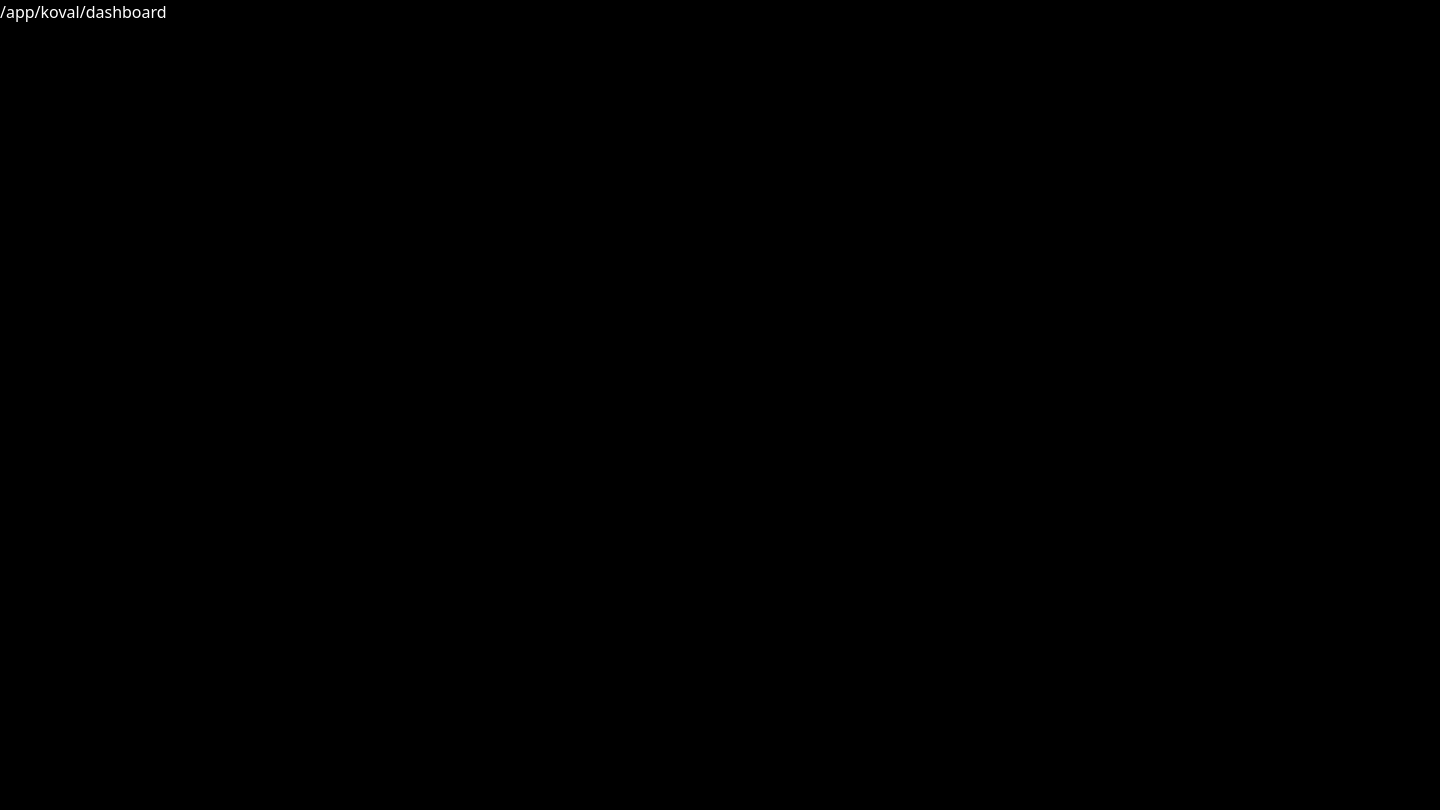
Test: speaks English (UK) inside an en-GB locale
Type keys "{Control>}k{/Control}"
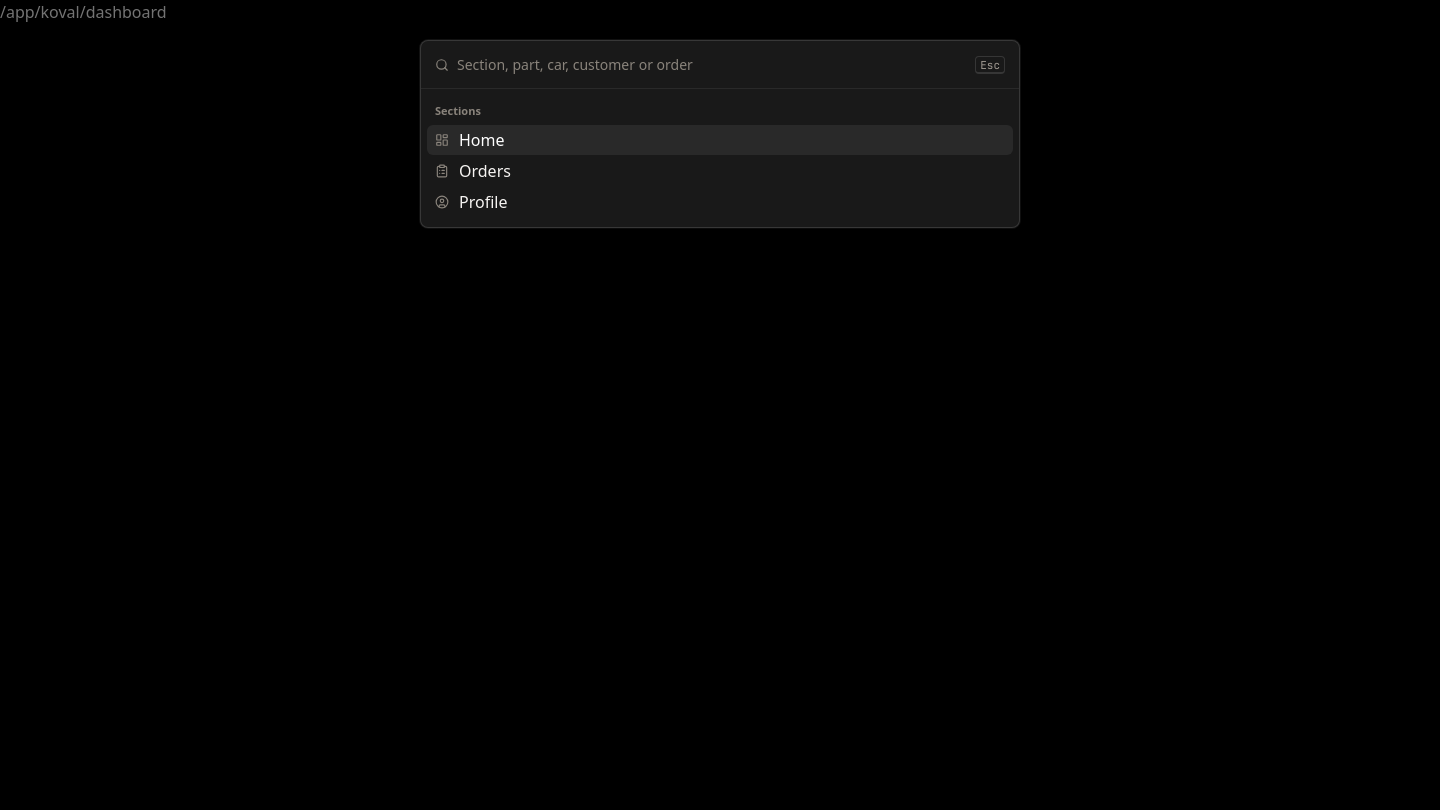
Type "or" into the dropdown named "Search the cabinet".
click(712, 64); type("or")  # box [457,54,967,75]
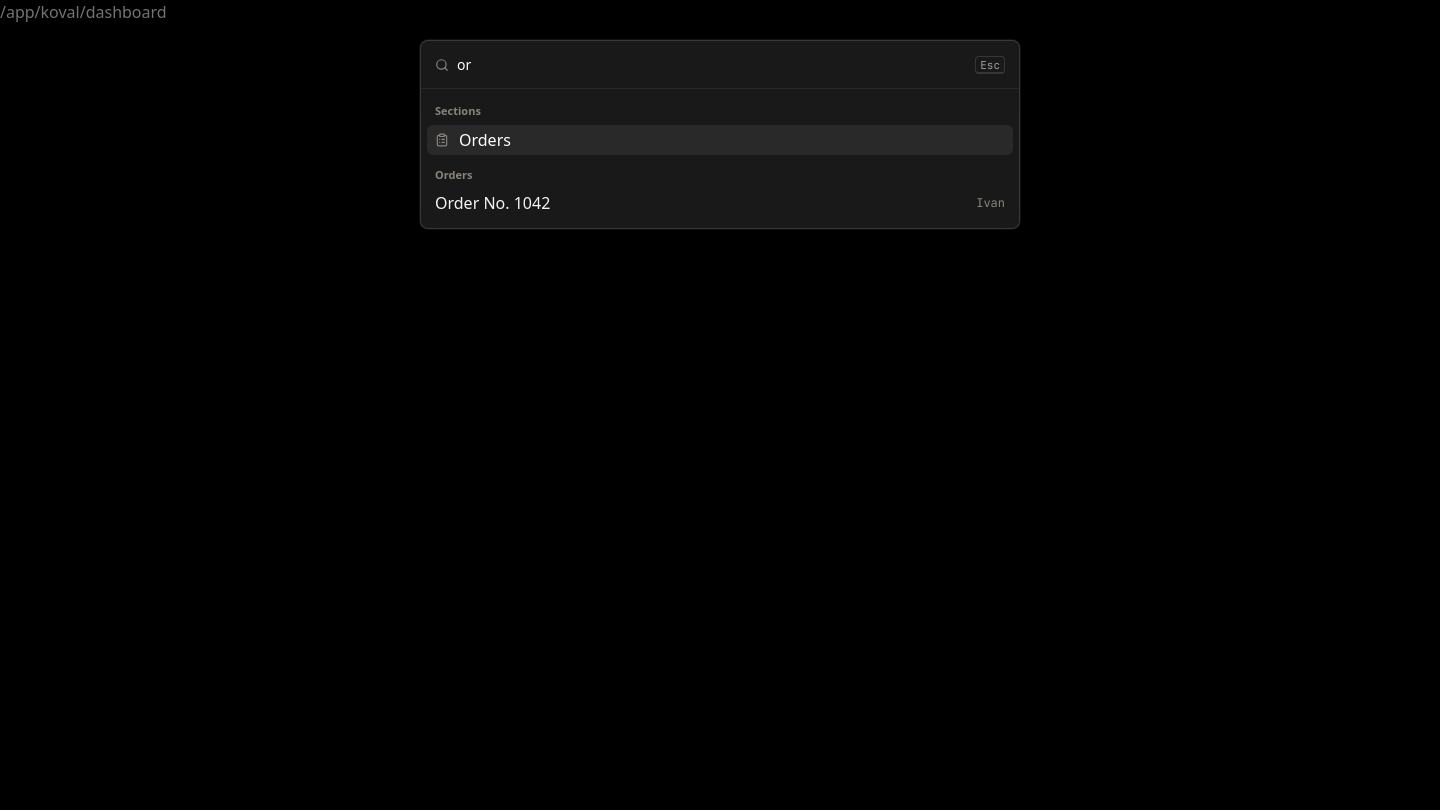
Check: the text "Sections" is shown, box [435,103,481,118]
Check: the option "Orders" is shown, box [427,124,1013,154]
Check: the option "Order No. 1042 Ivan" is shown, box [427,188,1013,218]
